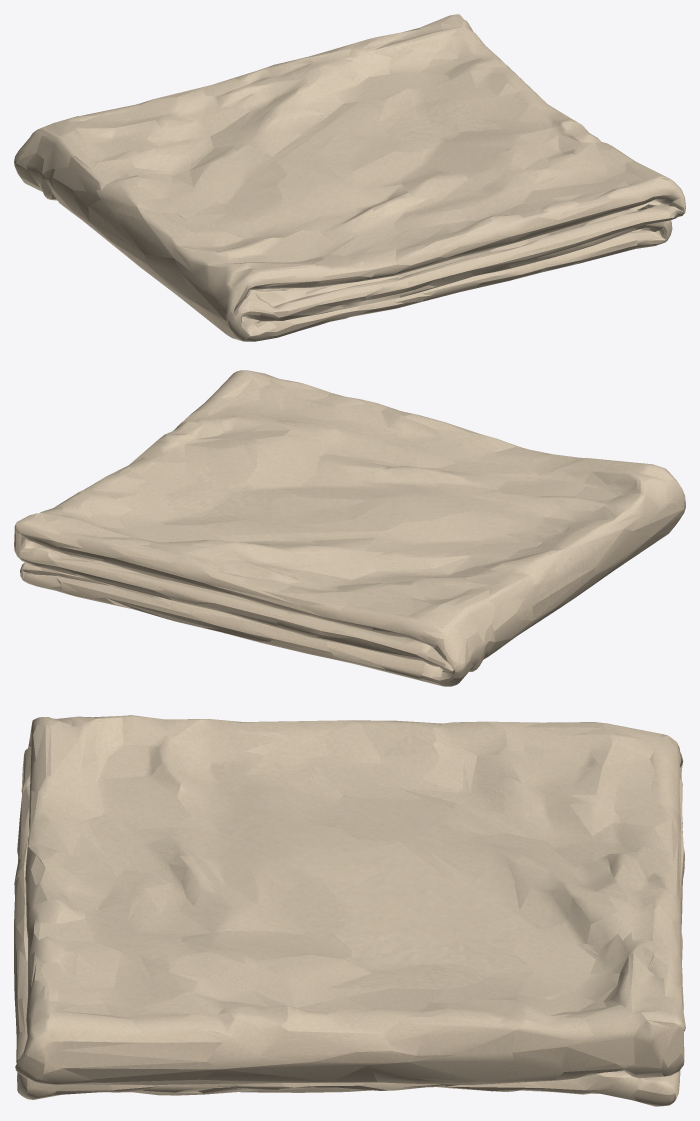
File: remeshed-cloth-10000.glb
3 renders of one model, top to bottom at view 1: azimuth 30°, elevation 25°; view 2: azimuth 150°, elevation 25°; view 3: azimuth 270°, elevation 25°, orthographic. The views are drawn at different scales.
Parts seen in each view (by area): view 1: output_unwrapped; view 2: output_unwrapped; view 3: output_unwrapped.
Part boxes in pixels (<box>): output_unwrapped: <box>14,14,685,341</box>; output_unwrapped: <box>14,370,685,686</box>; output_unwrapped: <box>14,715,685,1106</box>.
Bounding box in the file's own units: 1.9 × 0.2621 × 1.66.
Materials: 1 (1 with a texture image).
